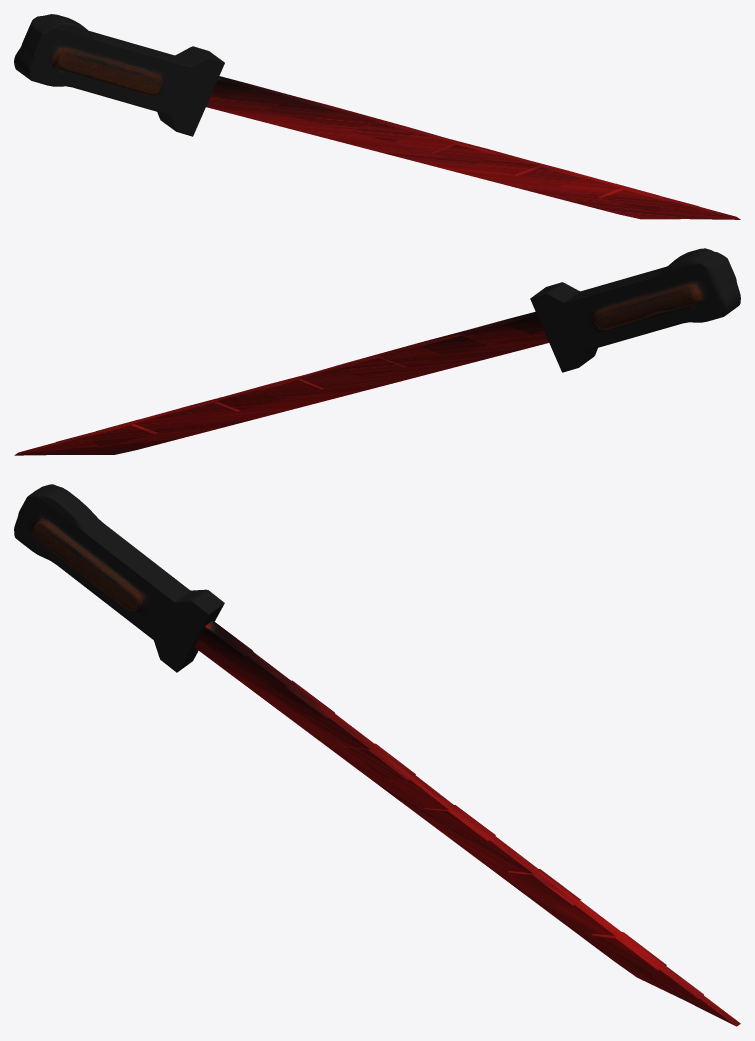
File: katana.fbx
3 views of the same model, one above another, from view 1: azimuth 30°, elevation 25°; view 2: azimuth 150°, elevation 25°; view 3: azimuth 330°, elevation 25° (orthographic).
Parts seen in each view (by area): view 1: Sword1:polySurface2; view 2: Sword1:polySurface2; view 3: Sword1:polySurface2.
Boxes of the visible parts, bbox=[...] form: Sword1:polySurface2: bbox=[14, 14, 740, 219]; Sword1:polySurface2: bbox=[14, 248, 740, 455]; Sword1:polySurface2: bbox=[14, 484, 740, 1026].
Size of the model in its own units: 41.04 by 20.06 by 2.56.
3 materials, 3 textured.
